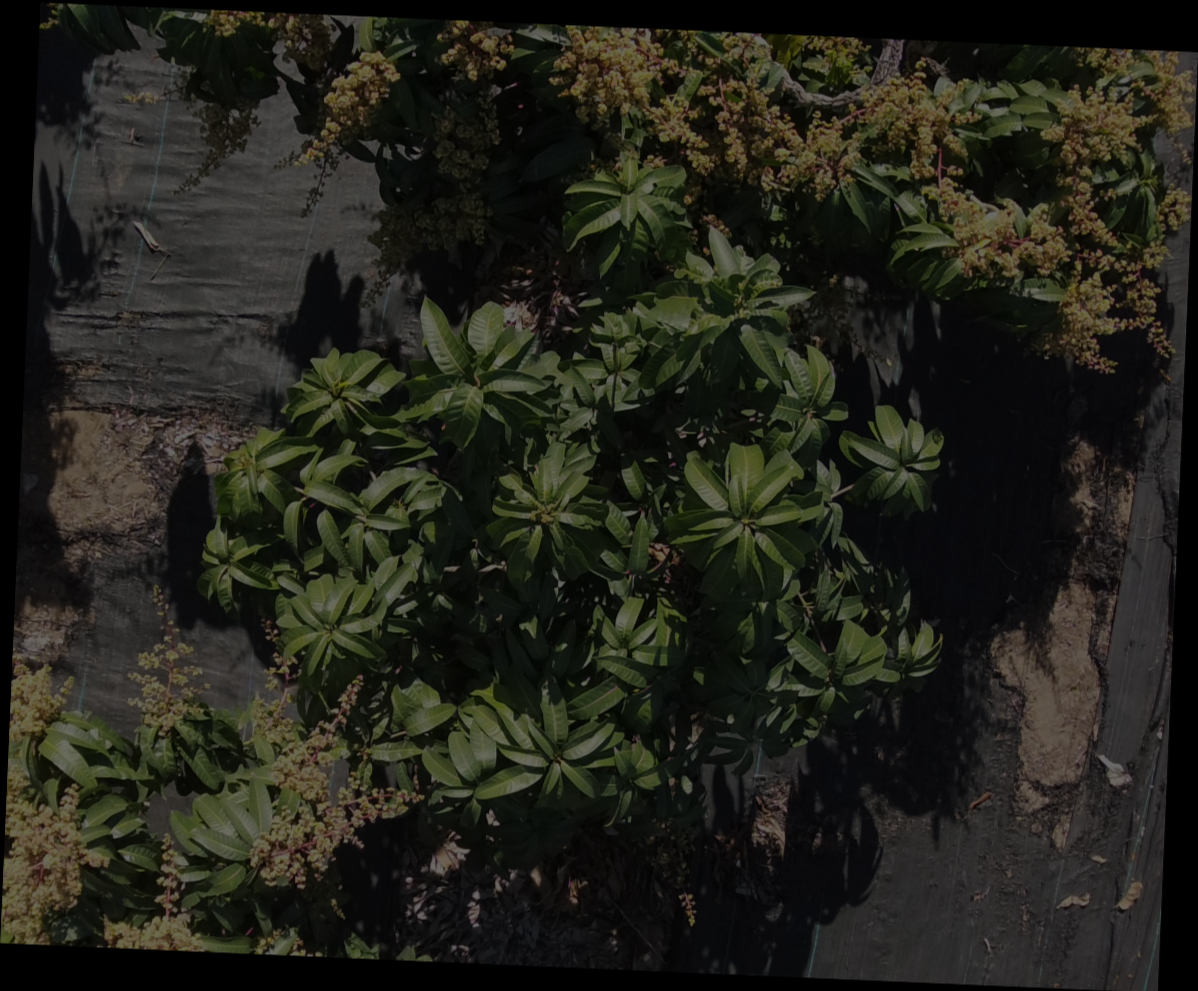flowers: (548, 30, 862, 193), (250, 677, 419, 890), (945, 201, 1159, 364), (777, 38, 979, 194), (3, 768, 108, 944), (128, 587, 210, 736), (105, 833, 207, 949), (1040, 87, 1142, 170), (321, 50, 399, 149), (10, 655, 73, 741), (437, 20, 513, 81), (1141, 50, 1196, 134), (793, 35, 866, 81), (205, 11, 328, 38), (1061, 181, 1111, 243), (260, 620, 298, 693), (157, 833, 183, 917), (253, 926, 324, 955), (1072, 47, 1132, 79), (1157, 184, 1191, 231)
